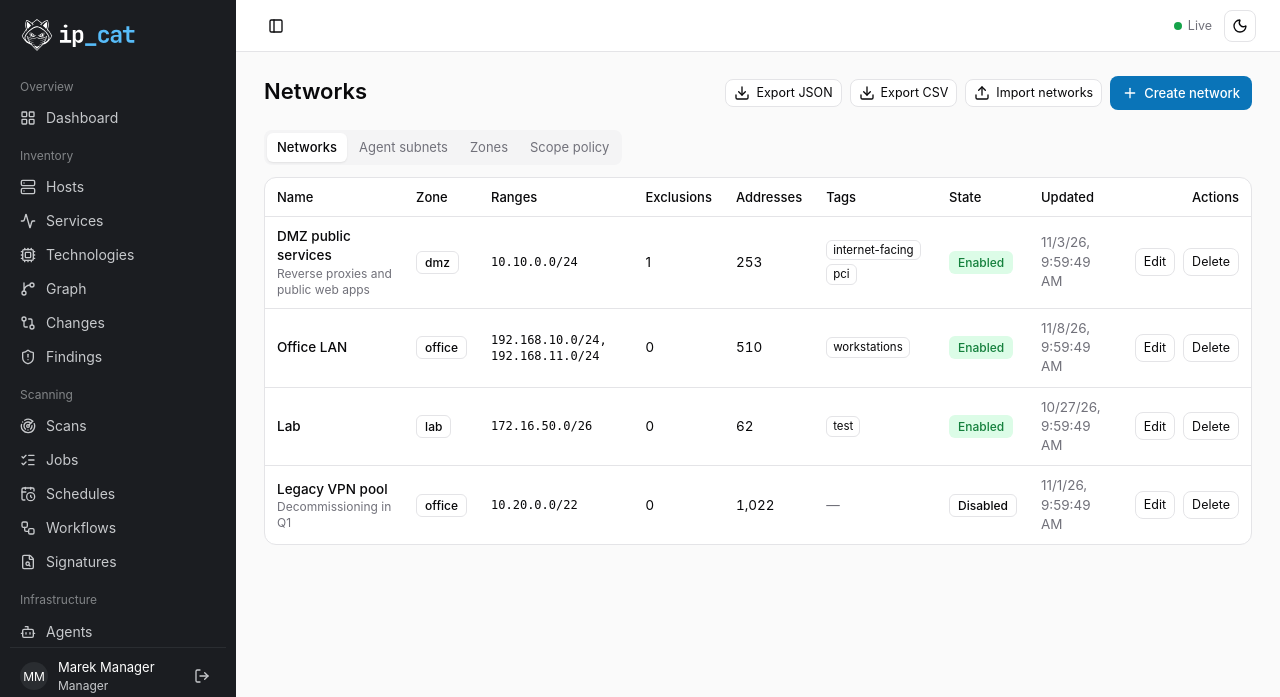
it: agent subnets › preselects attached subnets inside the policy and creates networks from them
Click the tab "Agent subnets" at (403, 147), box 349,133 -> 458,162
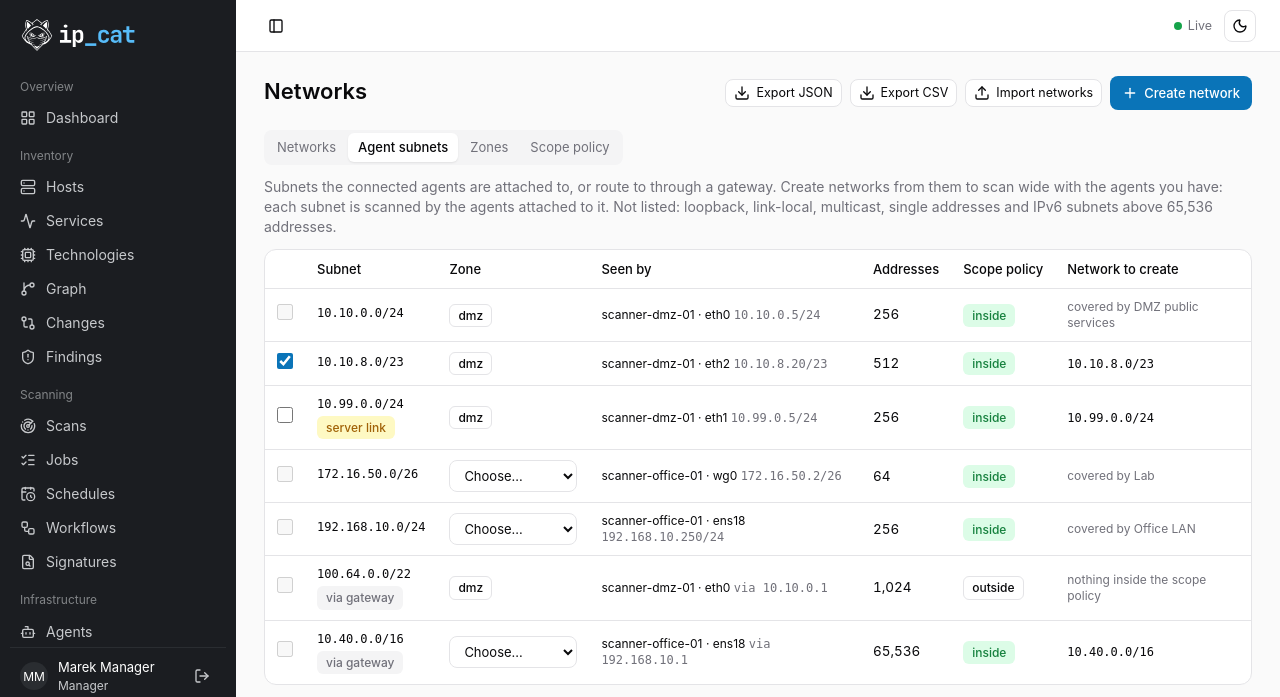
Expected: the checkbox named "Select 10.10.8.0/23" is checked, 277,353 -> 293,369
Expected: the checkbox named "Select 10.99.0.0/24" is not checked, 277,407 -> 293,423
Expected: the checkbox named "Select 10.10.0.0/24" is disabled, 277,304 -> 293,320
Select "office" in the dropdown named "Zone for 10.40.0.0/16" at (513, 652), box 449,636 -> 577,668
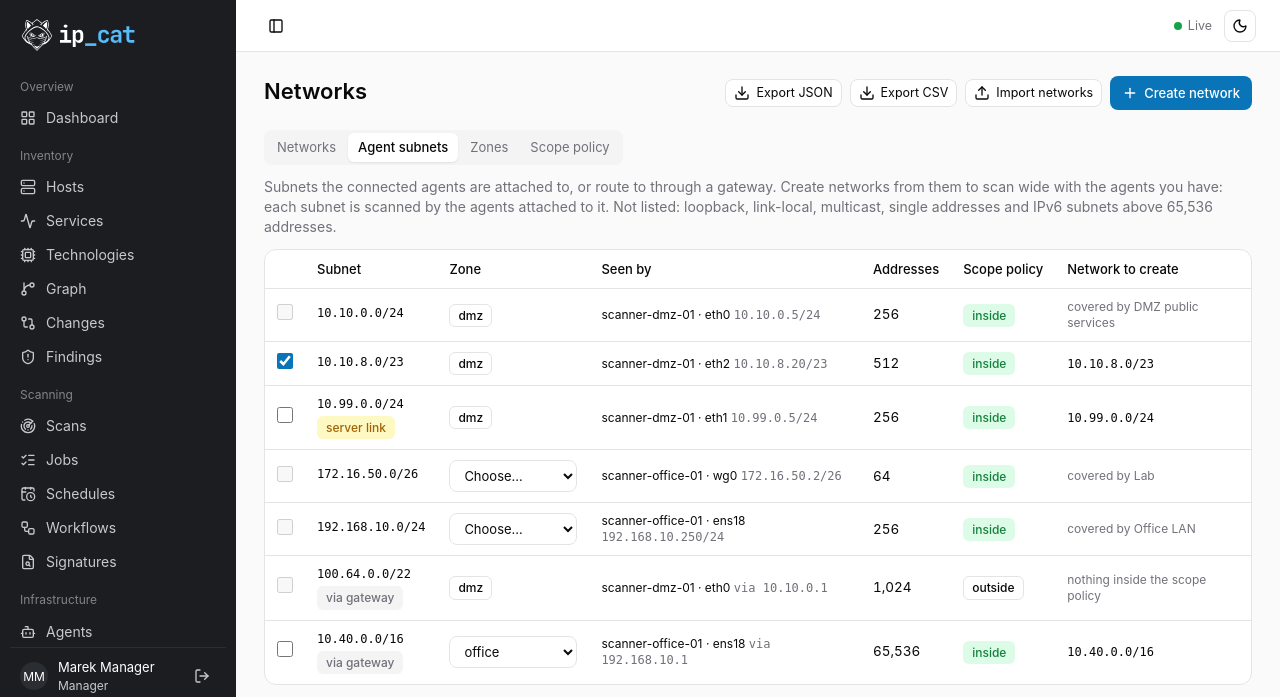
Click the checkbox named "Select 10.40.0.0/16" at (285, 650), box 277,642 -> 293,658
(page scrolled)
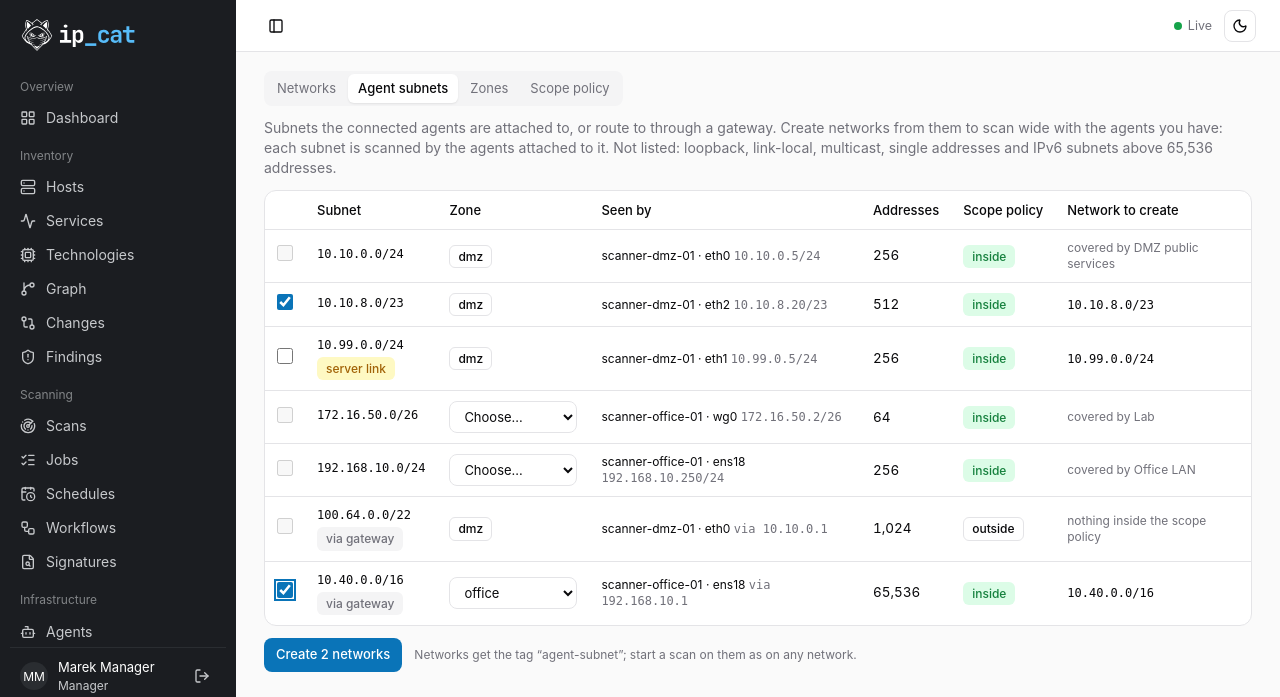
Click the button "Create 2 networks" at (333, 655), box 264,638 -> 402,672
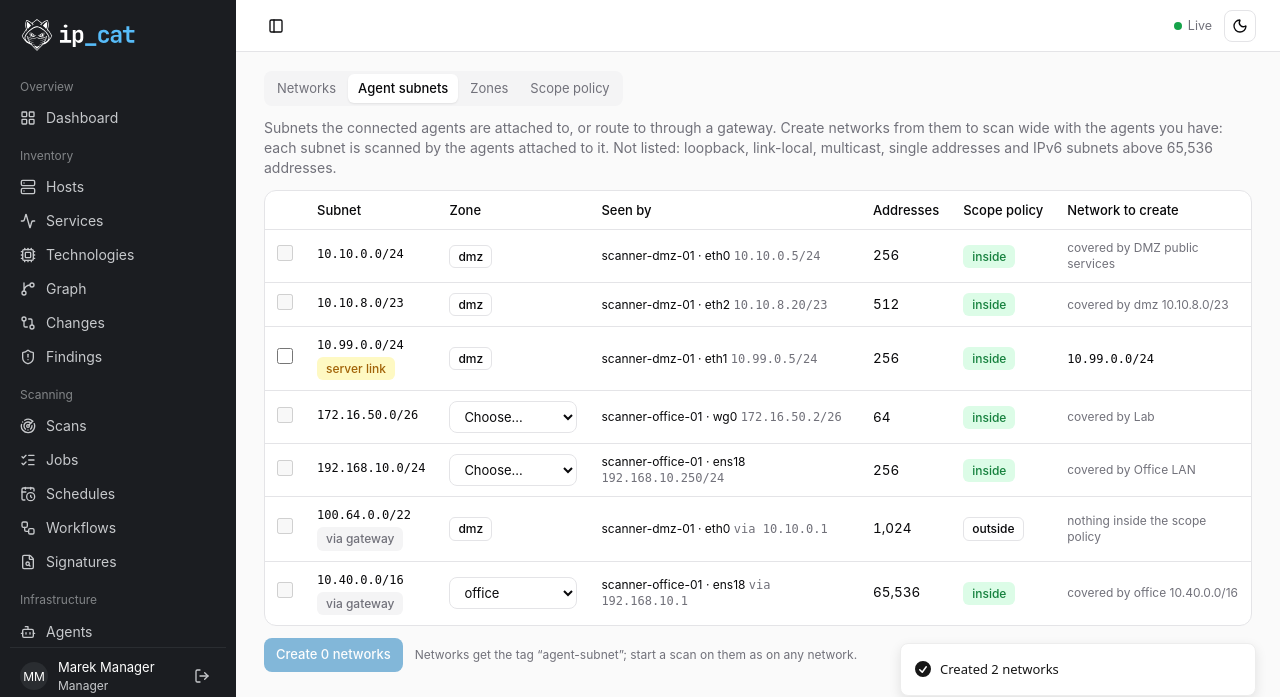
Expected: the text "covered by dmz 10.10.8.0/23" is shown, 1067,297 -> 1229,312
Expected: the text "covered by office 10.40.0.0/16" is shown, 1067,585 -> 1238,600
Click the tab "Networks" at (307, 88), box 267,74 -> 346,103
(page scrolled)
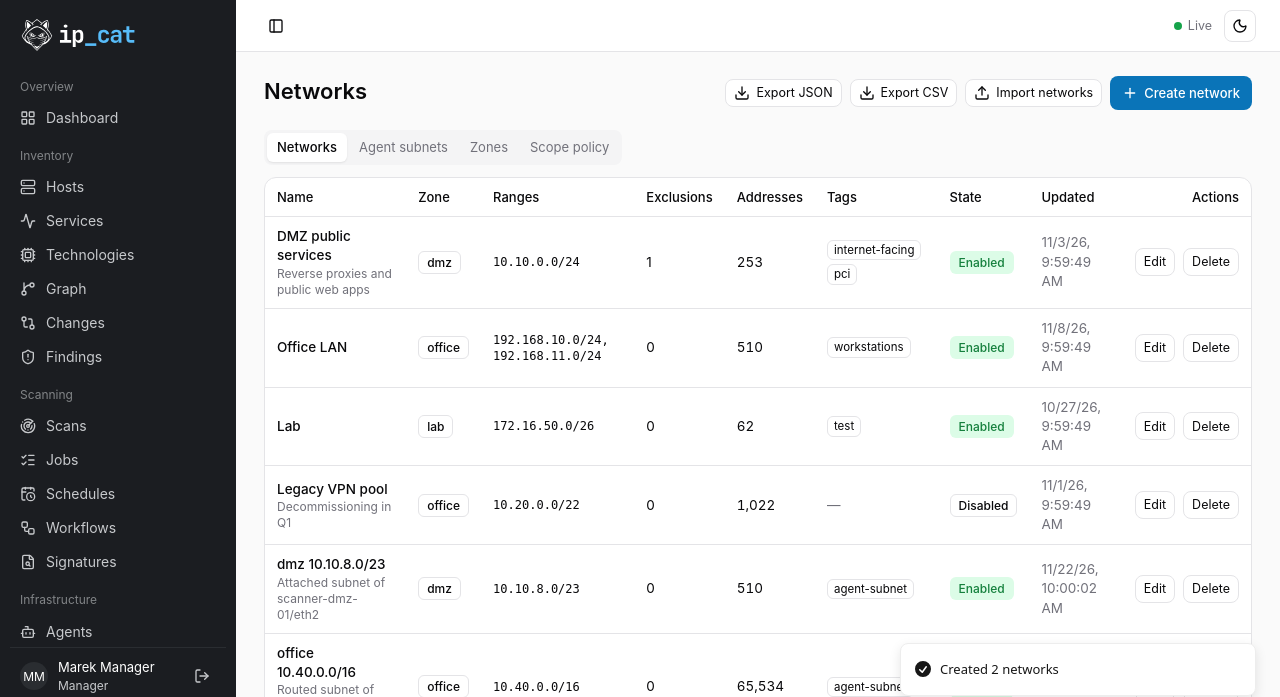
Expected: the text "dmz 10.10.8.0/23" is shown, 277,555 -> 394,574
